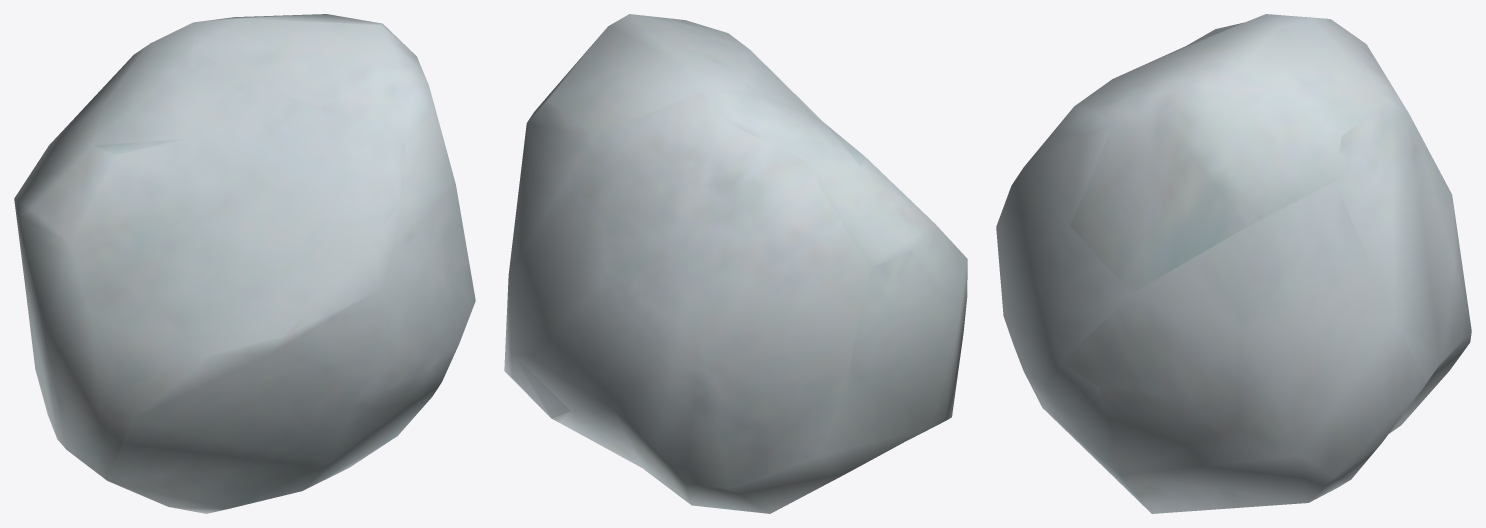
The model's file is P_RockClassic10.obj.
The picture shows the model from 3 angles, left to right: view 1: azimuth 30°, elevation 25°; view 2: azimuth 150°, elevation 25°; view 3: azimuth 270°, elevation 25°; orthographic projection. The views are drawn at different scales.
Size of the model in its own units: 2.52 by 2.47 by 2.26.
